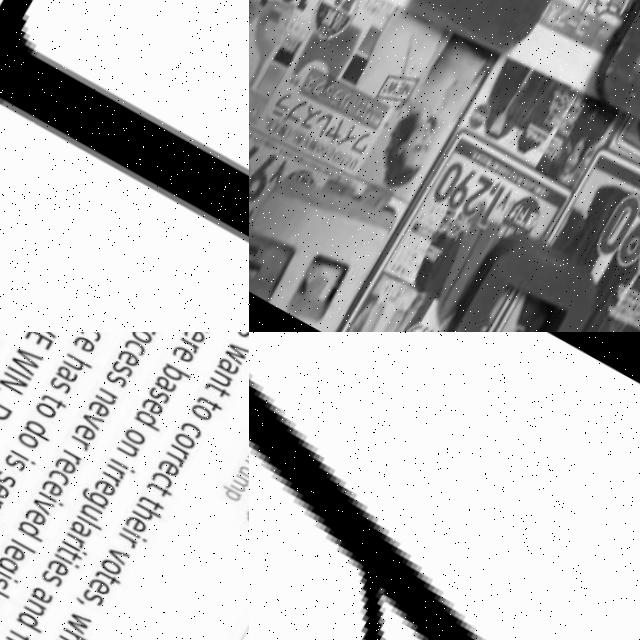A: (407, 0, 608, 66)
H: (249, 377, 486, 640)
L: (0, 0, 249, 332)
O: (435, 221, 621, 332)
U: (582, 0, 640, 153)
